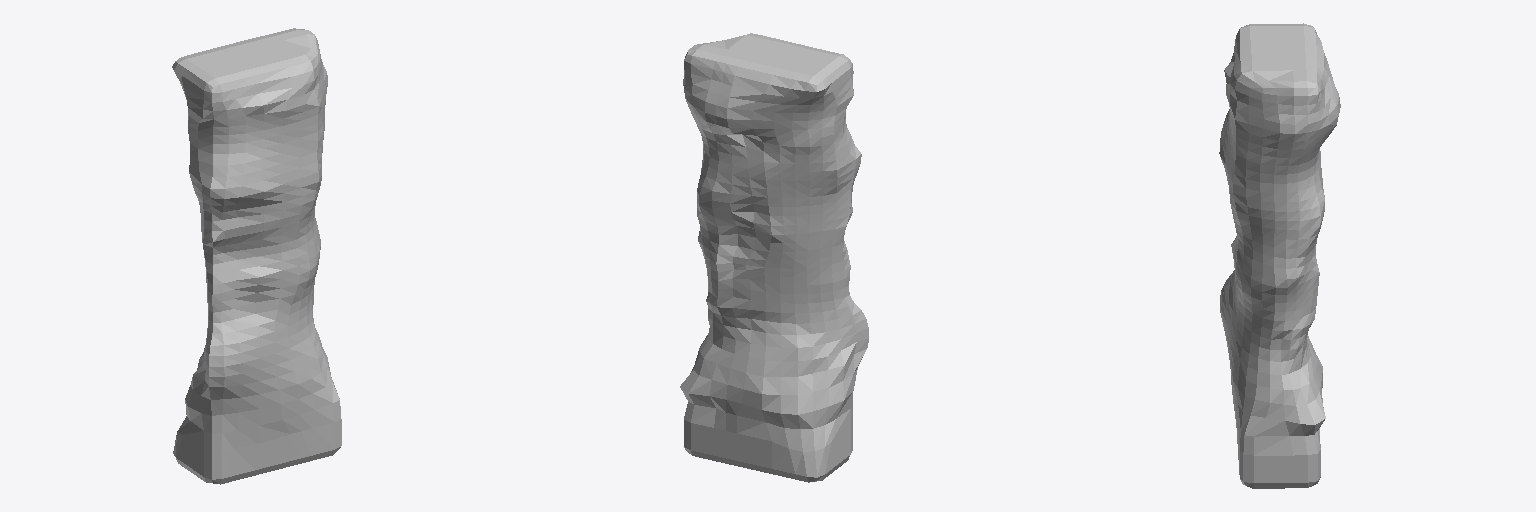
File: env_level1_Canyon_Rock14.obj
The picture shows the model from 3 angles: view 1: azimuth 30°, elevation 25°; view 2: azimuth 150°, elevation 25°; view 3: azimuth 270°, elevation 25°; orthographic projection.
Visible parts, largest first — view 1: rockwall_b06; view 2: rockwall_b06; view 3: rockwall_b06.
Boxes of the visible parts, x1=… form: rockwall_b06: x1=172, y1=28, x2=341, y2=484; rockwall_b06: x1=680, y1=33, x2=868, y2=482; rockwall_b06: x1=1219, y1=23, x2=1340, y2=488.
Size of the model in its own units: 1608 by 4181 by 1135.